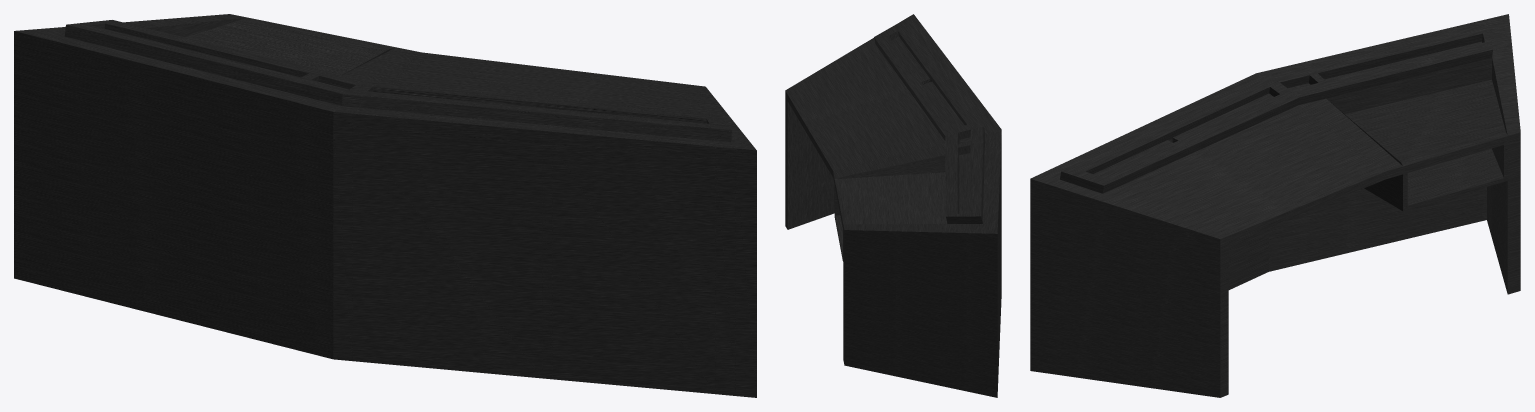
Rendered from Office deskNEW.fbx.
The picture shows the model from 3 angles, left to right: view 1: azimuth 30°, elevation 25°; view 2: azimuth 150°, elevation 25°; view 3: azimuth 270°, elevation 25°; orthographic projection. The views are drawn at different scales.
Parts seen in each view (by area): view 1: Office Desk; view 2: Office Desk; view 3: Office Desk.
Part boxes in pixels (<box>): Office Desk: <box>14,14,756,397</box>; Office Desk: <box>785,14,1001,397</box>; Office Desk: <box>1030,14,1520,397</box>.
Size of the model in its own units: 351 by 169 by 380.
